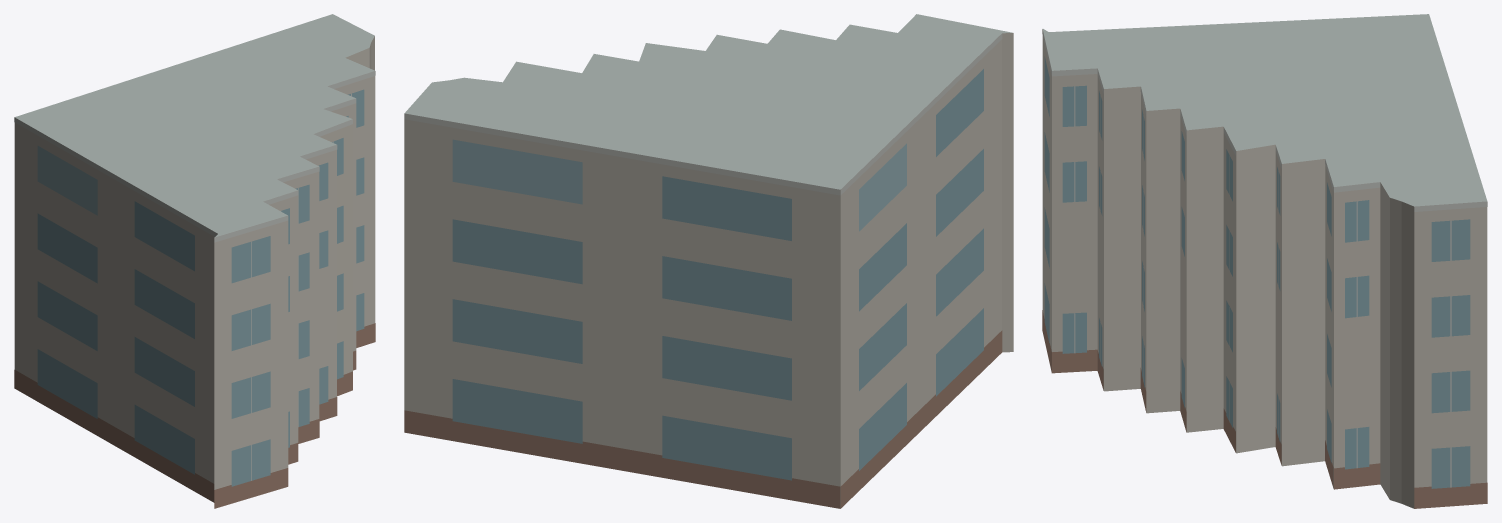
File: survey-upis-32809153.glb
The picture shows the model from 3 angles, left to right: view 1: azimuth 30°, elevation 25°; view 2: azimuth 150°, elevation 25°; view 3: azimuth 270°, elevation 25°; orthographic projection. The views are drawn at different scales.
Parts seen in each view (by area): view 1: survey-upis-32809153.tmp; view 2: survey-upis-32809153.tmp; view 3: survey-upis-32809153.tmp.
Boxes of the visible parts, <box> form: survey-upis-32809153.tmp: <box>14,14,375,508</box>; survey-upis-32809153.tmp: <box>404,14,1013,508</box>; survey-upis-32809153.tmp: <box>1042,14,1487,508</box>.
Size of the model in its own units: 18.15 by 13.28 by 17.72.
